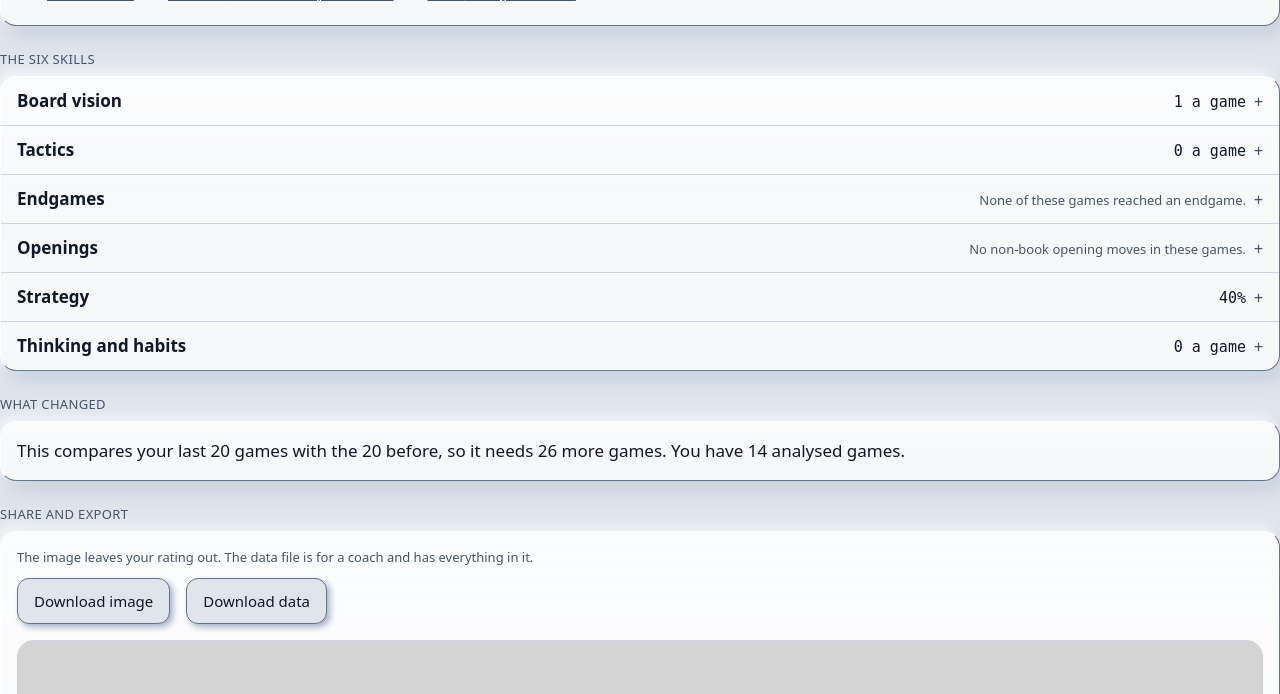
a skill states what it cannot measure rather than leaving a gap
This screenshot has width=1280, height=694.
(page scrolled)
Click the button "Thinking and habits 0 a game +".
click(102, 346)  # box 1,322 -> 1279,370
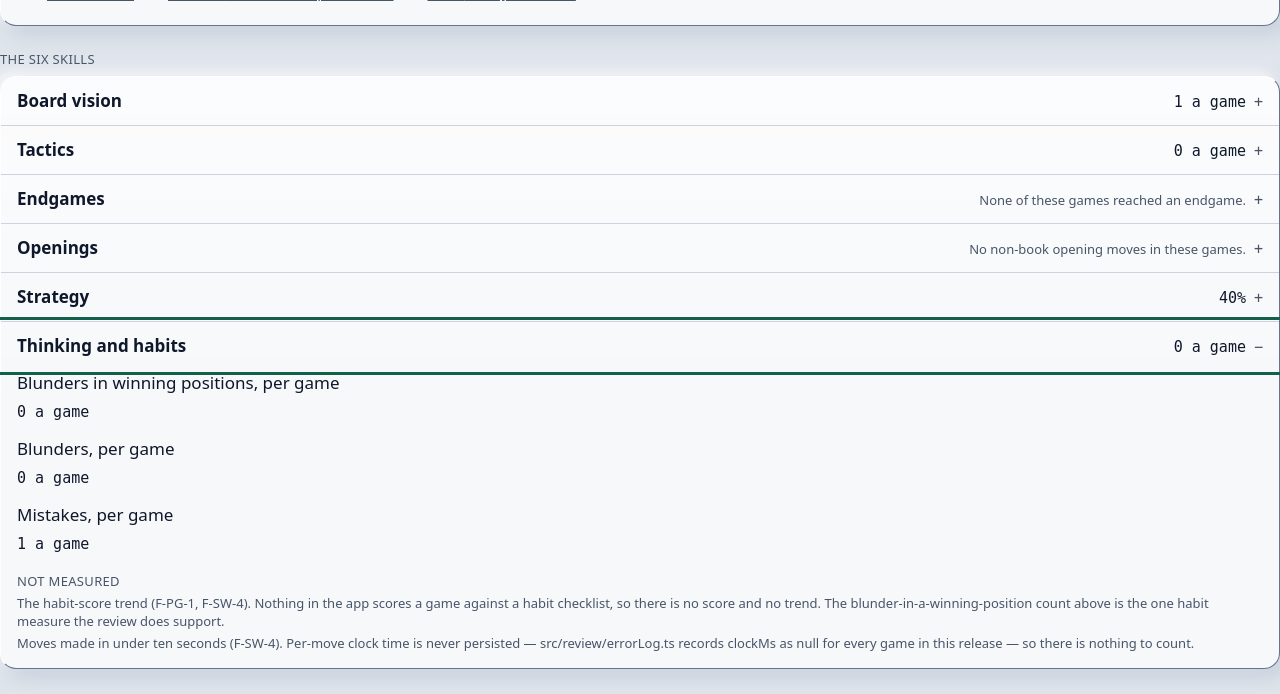
Check: the heading "Not measured" is shown, box 17,572 -> 120,590
Check: the list item "habit-score trend" is shown, box 17,594 -> 1209,630
Check: the list item "under ten seconds" is shown, box 17,634 -> 1194,652
